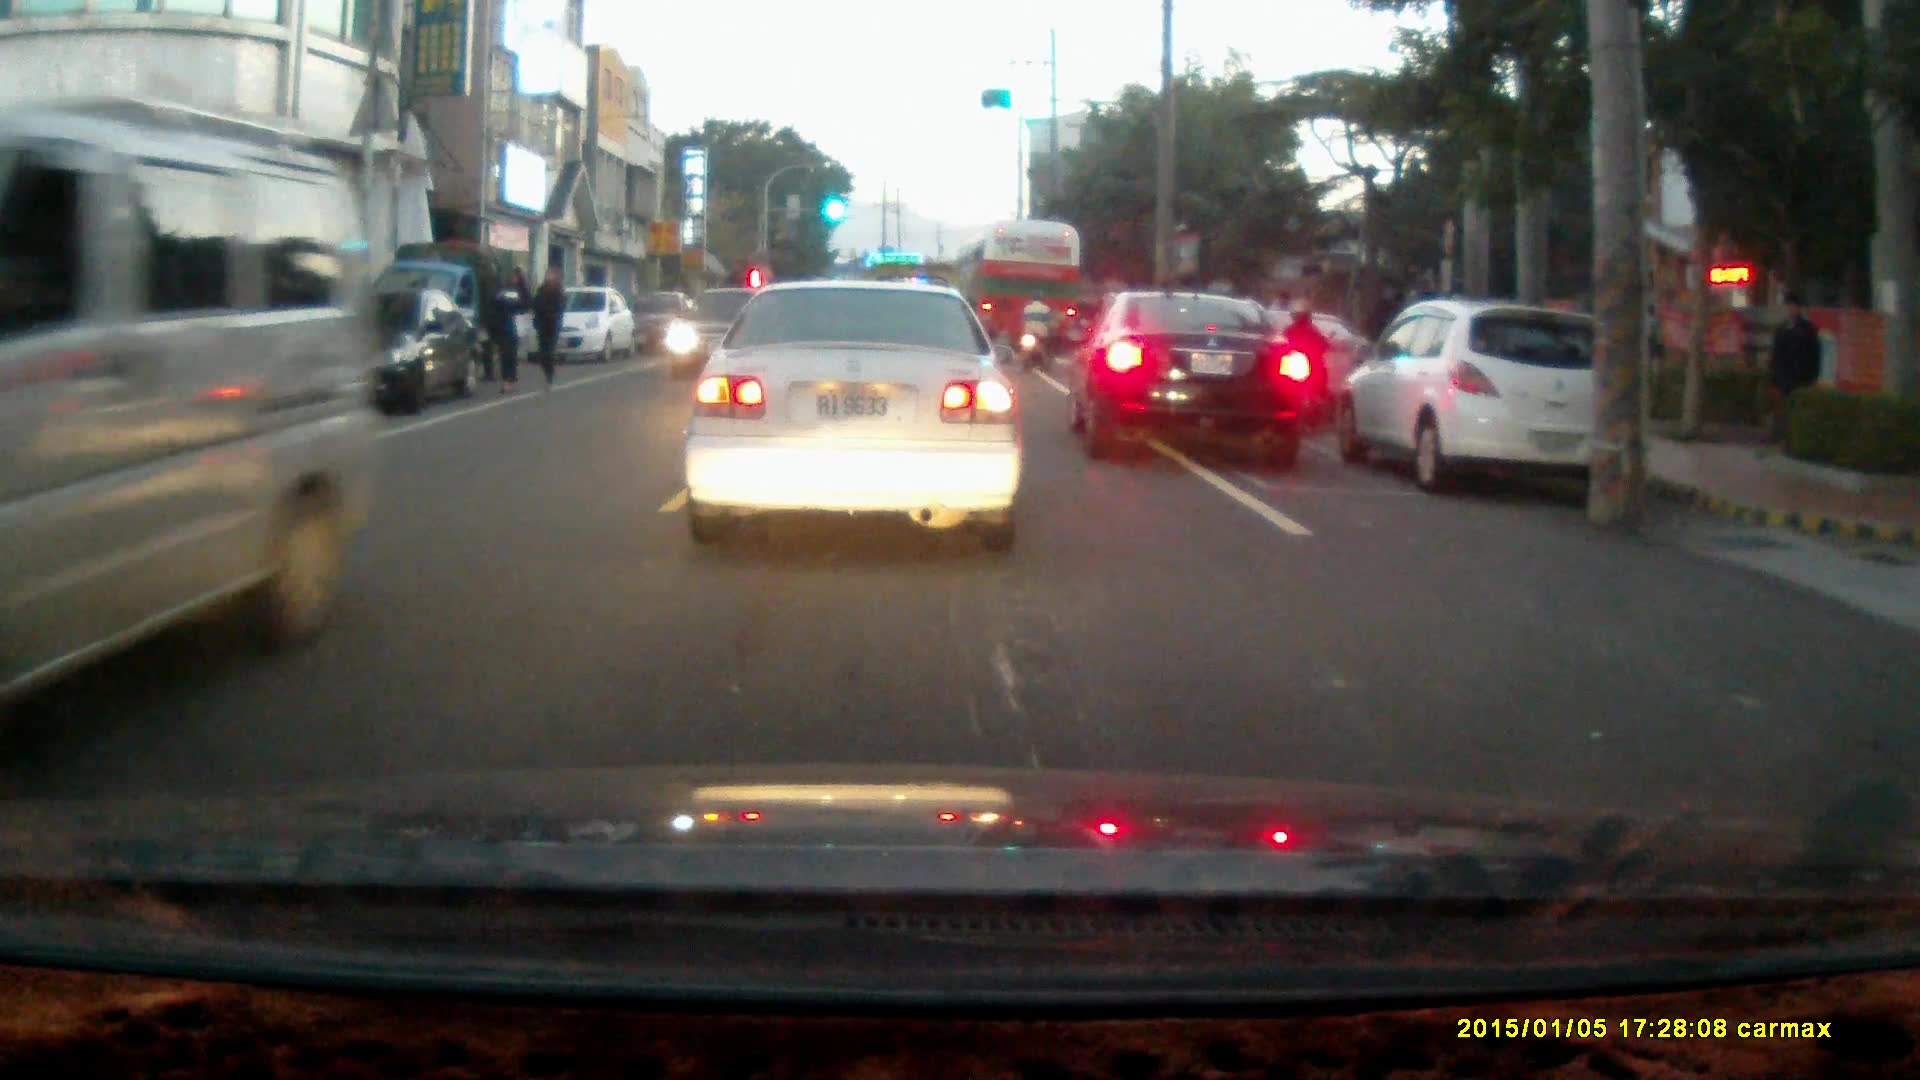pedestrian: (1764, 289, 1824, 459), (486, 265, 529, 393), (528, 262, 566, 397)
rider: (1282, 299, 1338, 441), (1018, 293, 1054, 370)
vehicle: (1, 116, 389, 765), (680, 282, 1028, 557), (1332, 297, 1639, 500), (1068, 293, 1309, 471), (963, 221, 1087, 365), (669, 283, 765, 382), (521, 286, 637, 364)
